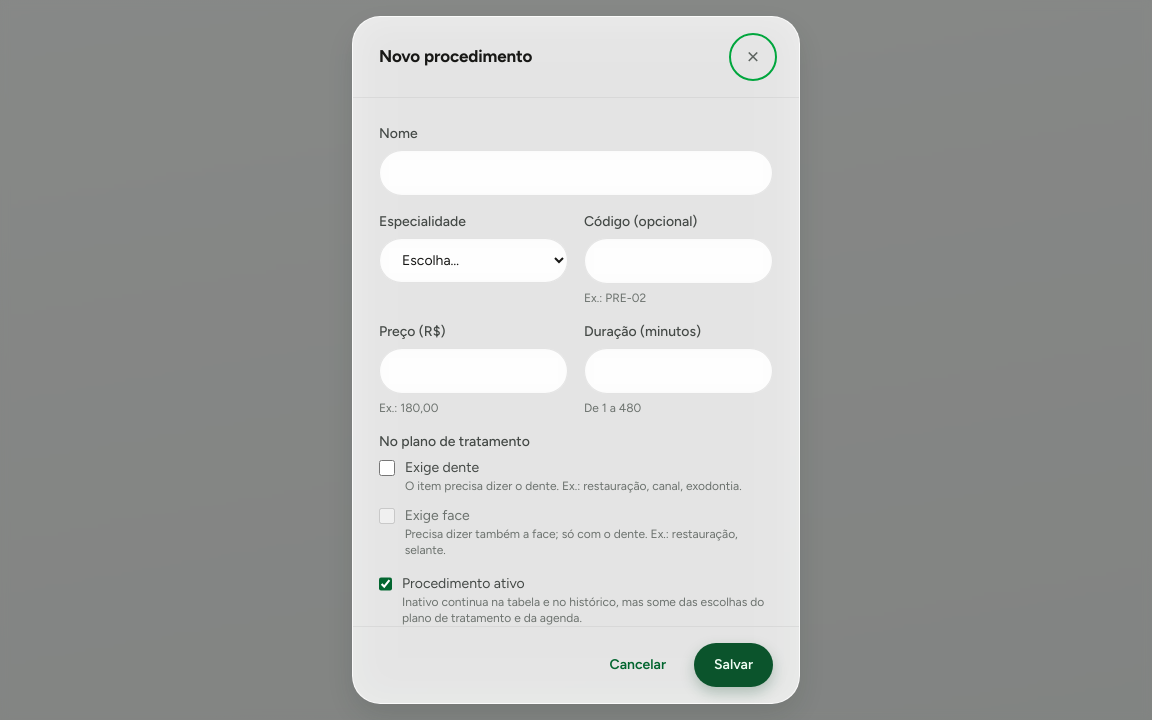
Test: cadastro de procedimento › sem nada preenchido mostra o erro de cada campo, mantém o modal aberto e não grava
The width and height of the screenshot is (1152, 720).
Click the button "Salvar" at (734, 665), box [694,643,773,687]
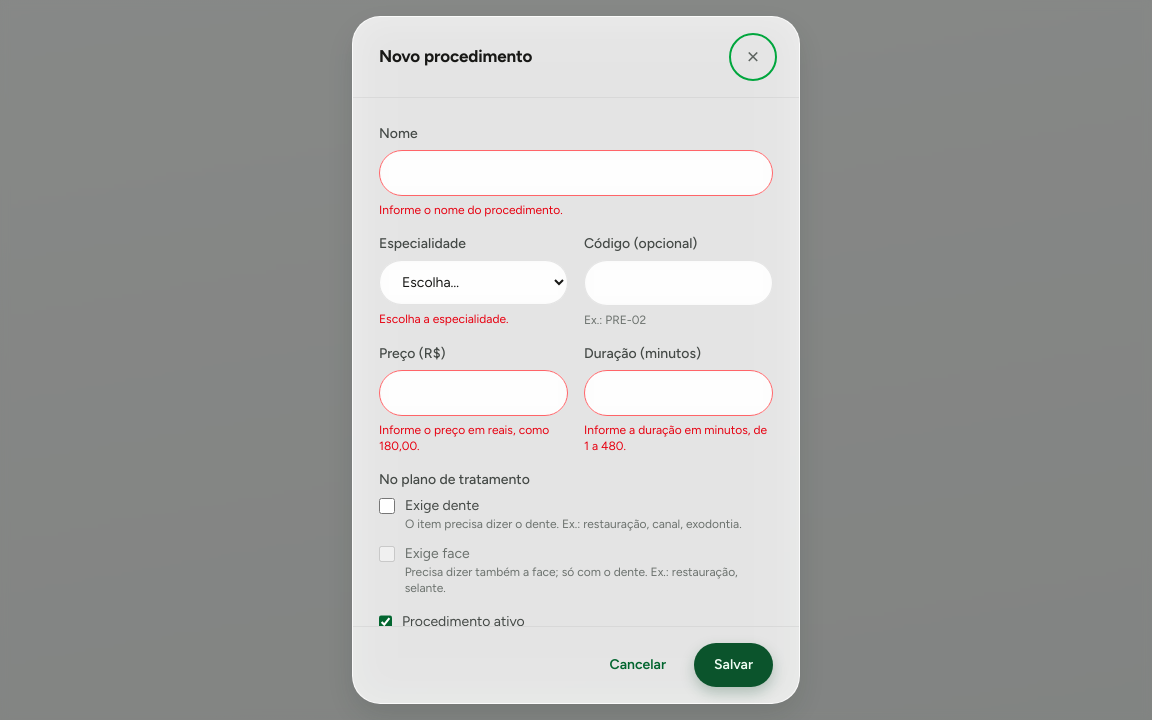
Expected: the text "Informe o nome do procedimento." is shown, [379,203,563,217]
Expected: the text "Escolha a especialidade." is shown, [379,312,508,326]
Expected: the text "Informe o preço em reais, como 180,00." is shown, [379,422,568,454]
